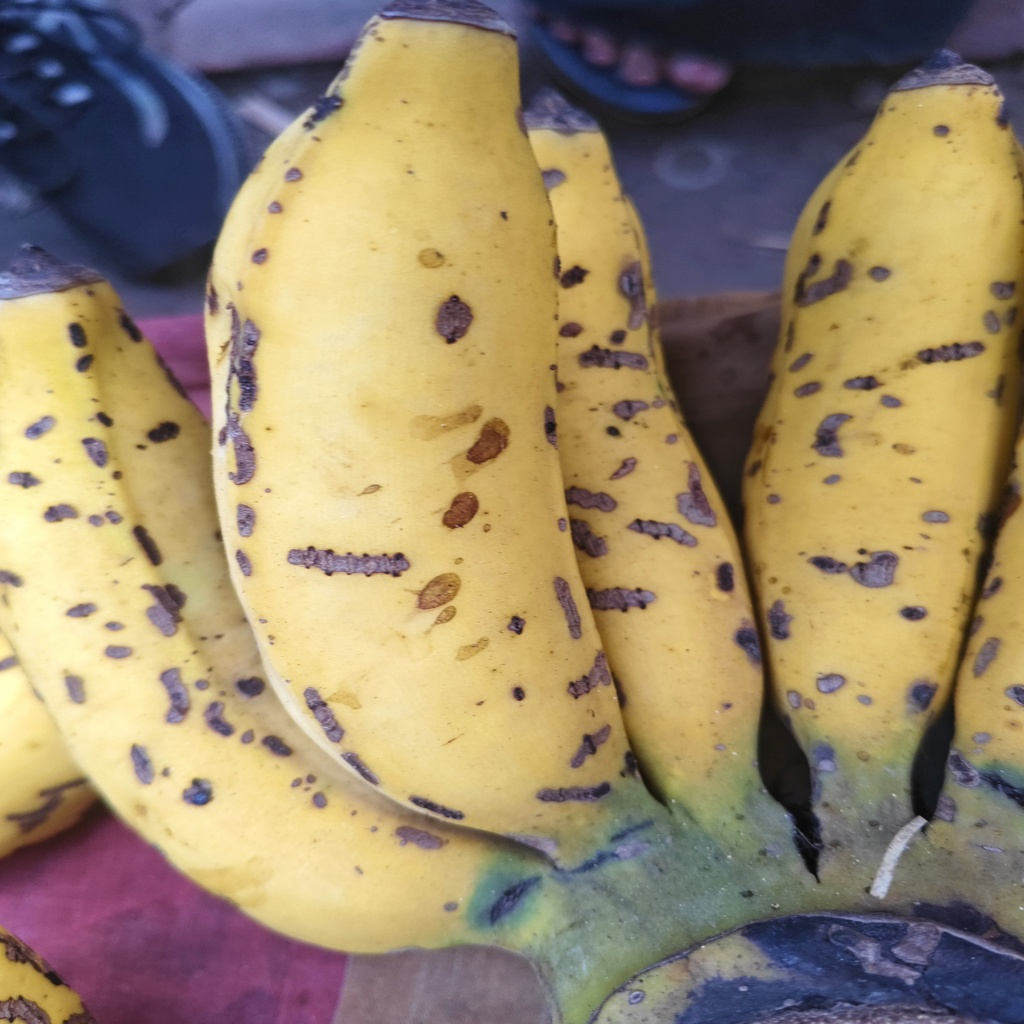unhealthy: (204, 9, 638, 841)
